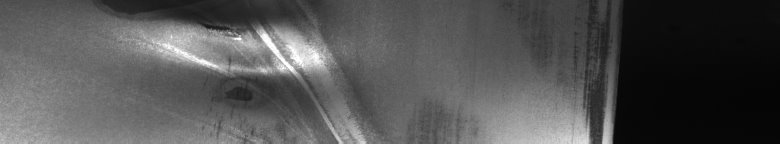ke: (165, 16, 332, 130)
